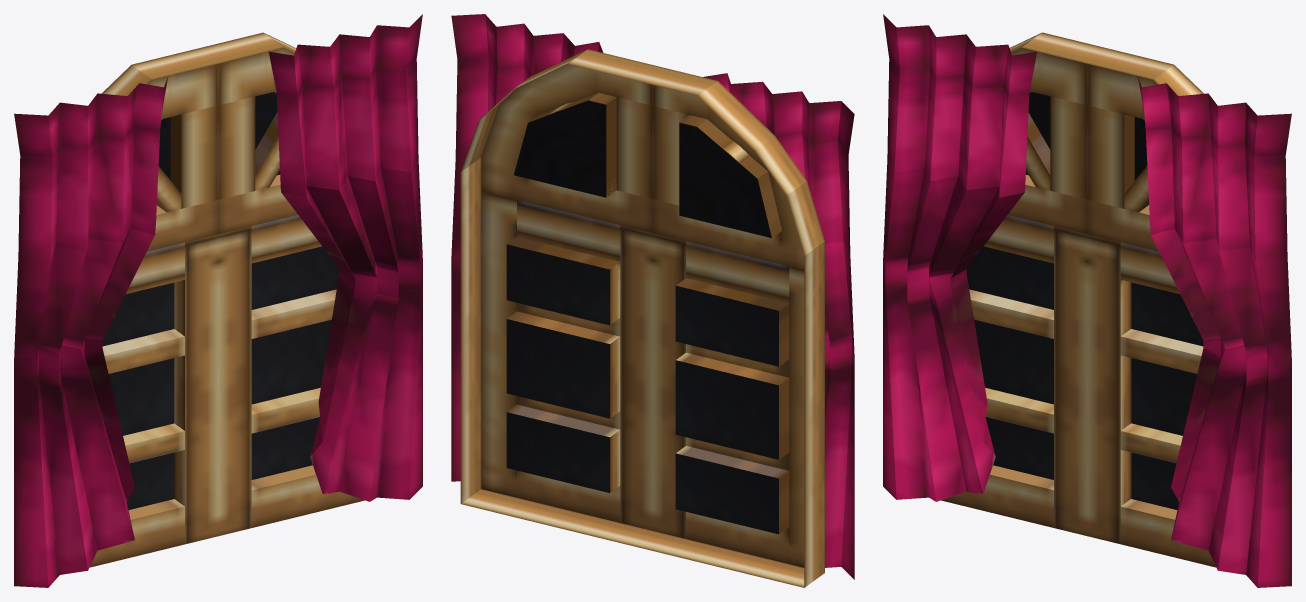
The model's file is Inside_Poly_Window_04_Night.obj.
3 renders of one model, left to right at view 1: azimuth 30°, elevation 25°; view 2: azimuth 150°, elevation 25°; view 3: azimuth 330°, elevation 25°, orthographic.
Parts seen in each view (by area): view 1: Plane_Plane.001, Cube.001_Cube; view 2: Cube.001_Cube, Plane_Plane.001; view 3: Plane_Plane.001, Cube.001_Cube.
Boxes of the visible parts, x1,y1,x2,y2 form: Plane_Plane.001: [14, 14, 422, 587]; Cube.001_Cube: [89, 32, 364, 567]; Cube.001_Cube: [460, 49, 824, 587]; Plane_Plane.001: [451, 14, 854, 579]; Plane_Plane.001: [883, 14, 1291, 587]; Cube.001_Cube: [941, 32, 1216, 567].
Size of the model in its own units: 1.13 by 1.25 by 0.1602.
1 material, 1 textured.
